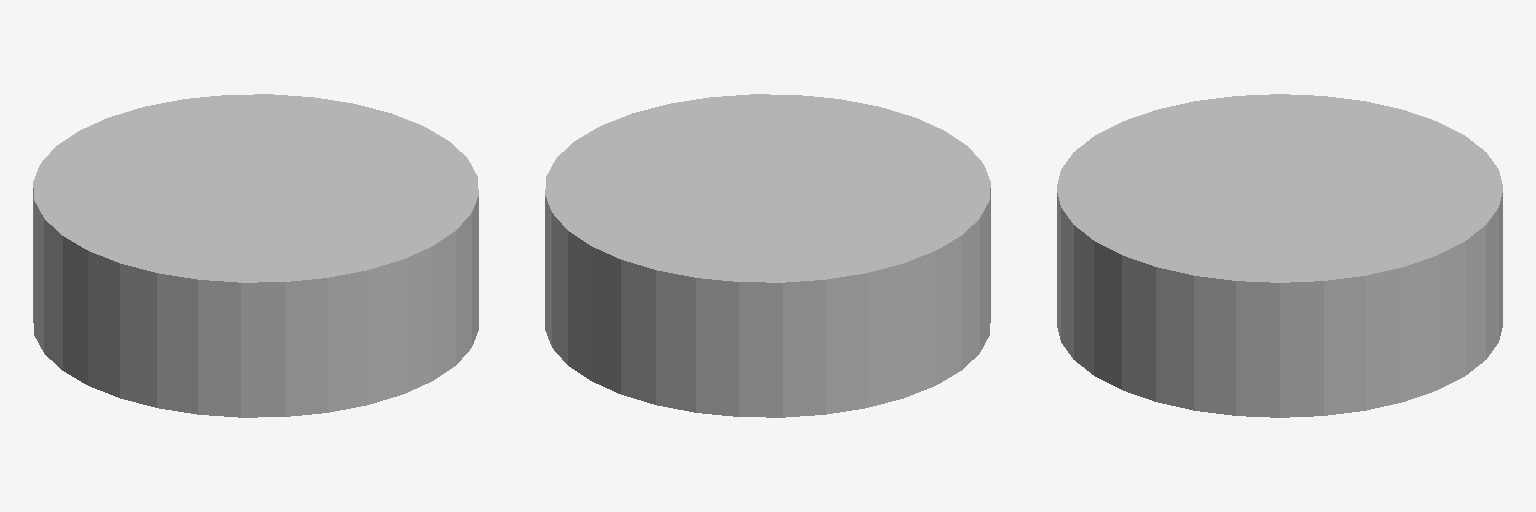
3 renders of one model, left to right at view 1: azimuth 30°, elevation 25°; view 2: azimuth 150°, elevation 25°; view 3: azimuth 270°, elevation 25°, orthographic.
Visible parts, largest first — view 1: 柱体; view 2: 柱体; view 3: 柱体.
Part boxes in pixels (left/top/right/bottom): 柱体: left=33, top=94, right=478, bottom=417; 柱体: left=545, top=94, right=990, bottom=417; 柱体: left=1057, top=94, right=1502, bottom=417.
Size of the model in its own units: 1.2 by 0.4 by 1.2.